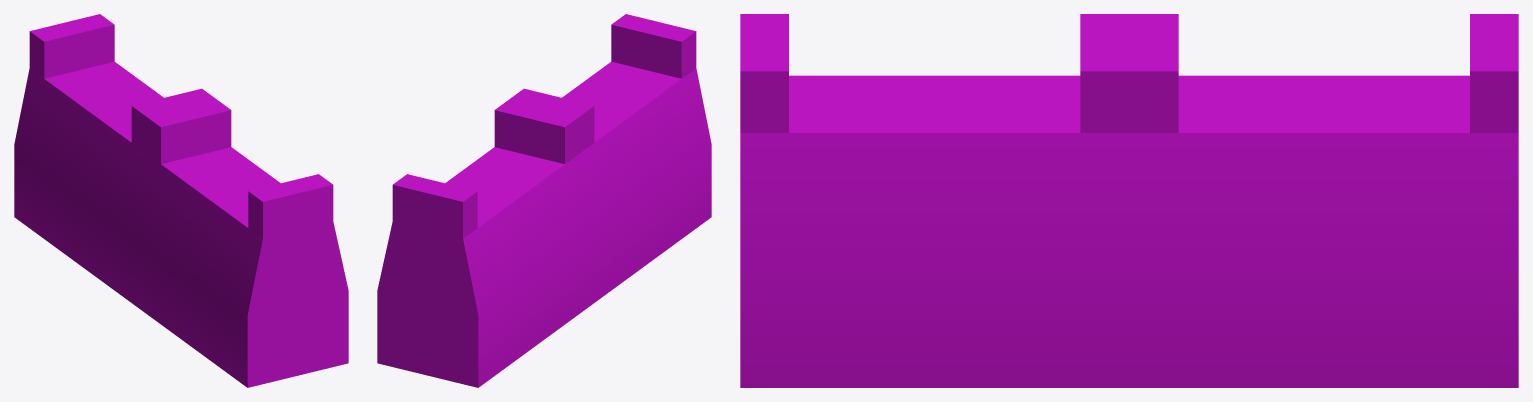
File: Tower3.fbx
3 views of the same model, side by side, from view 1: azimuth 30°, elevation 25°; view 2: azimuth 150°, elevation 25°; view 3: azimuth 270°, elevation 25° (orthographic). The views are drawn at different scales.
Visible parts, largest first — view 1: Cube.028; view 2: Cube.028; view 3: Cube.028.
Part boxes in pixels (x1,y1,x2,y2): Cube.028: (14,14,348,387); Cube.028: (377,14,711,387); Cube.028: (740,14,1518,387).
Size of the model in its own units: 1.3 by 5.19 by 2.24.
